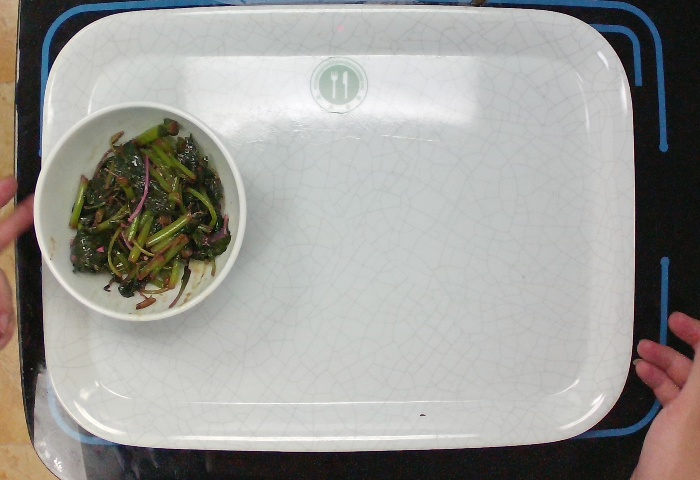JYsf-Fan_Wan: (19, 96, 250, 327)
